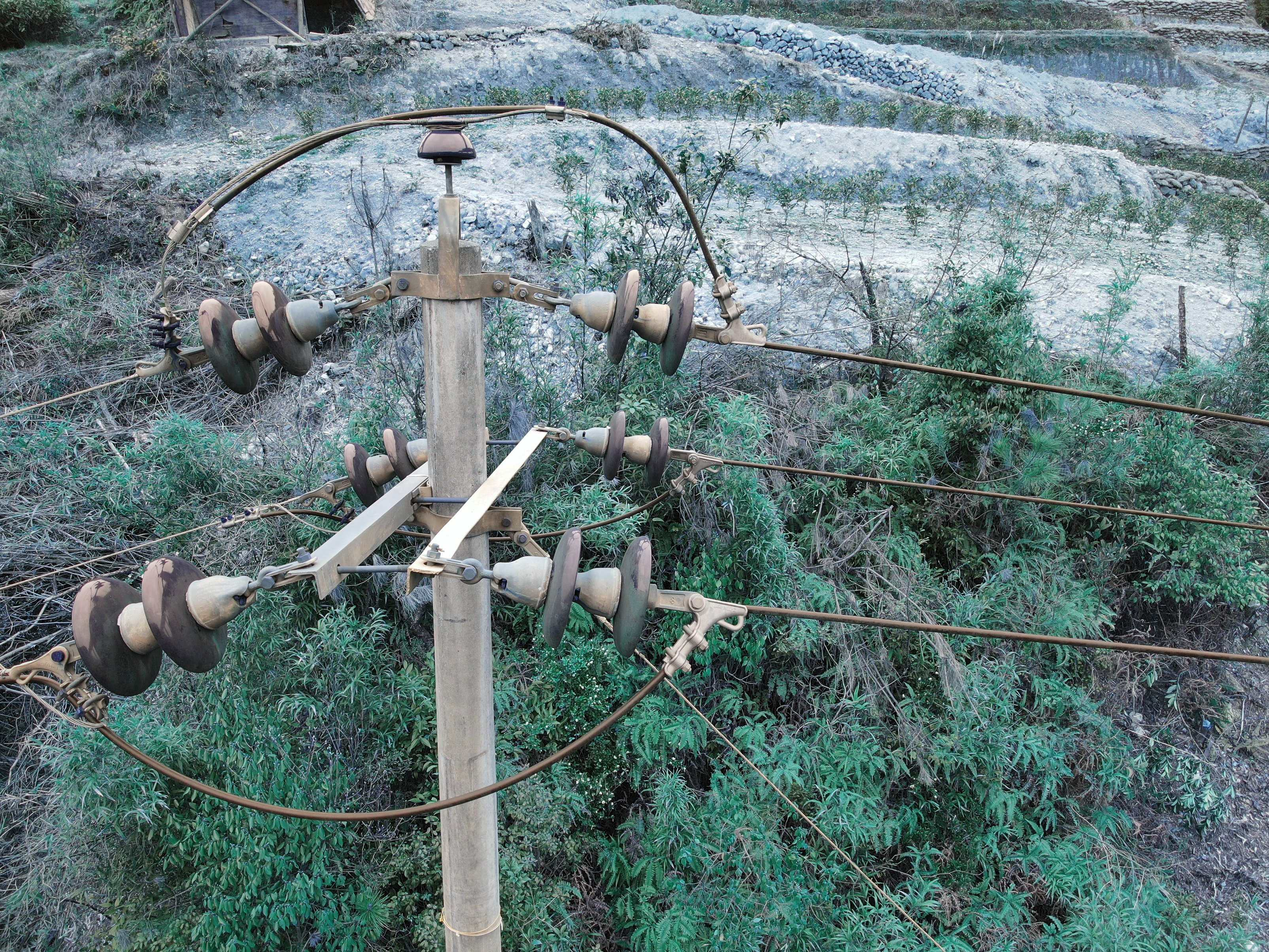severe_soiling_no_discharge_whole: (72, 555, 259, 698), (497, 523, 655, 658), (197, 280, 339, 395), (572, 267, 699, 378)
